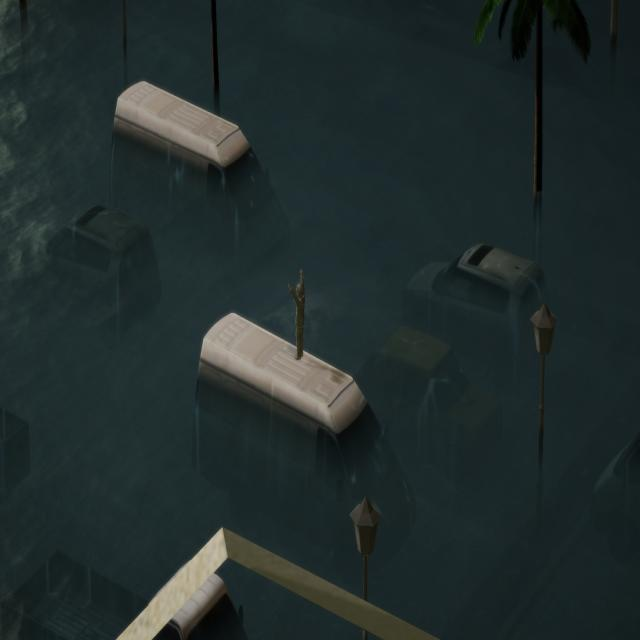Human: (285, 268, 313, 367)
